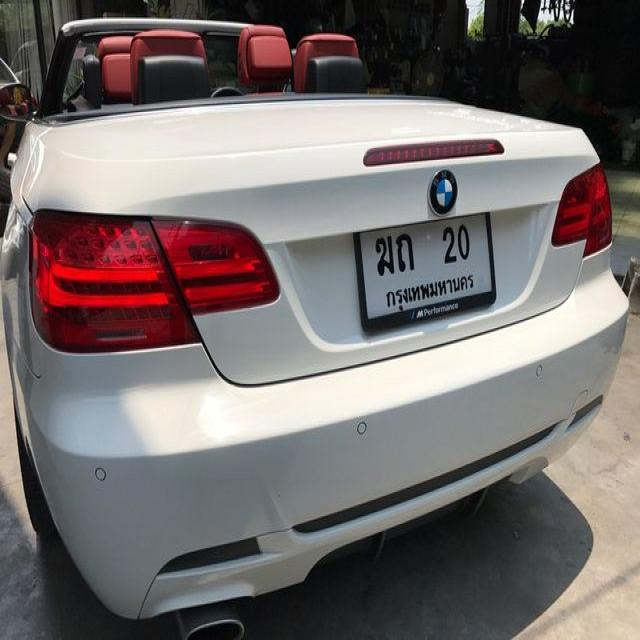license_plate: (352, 210, 499, 339)
